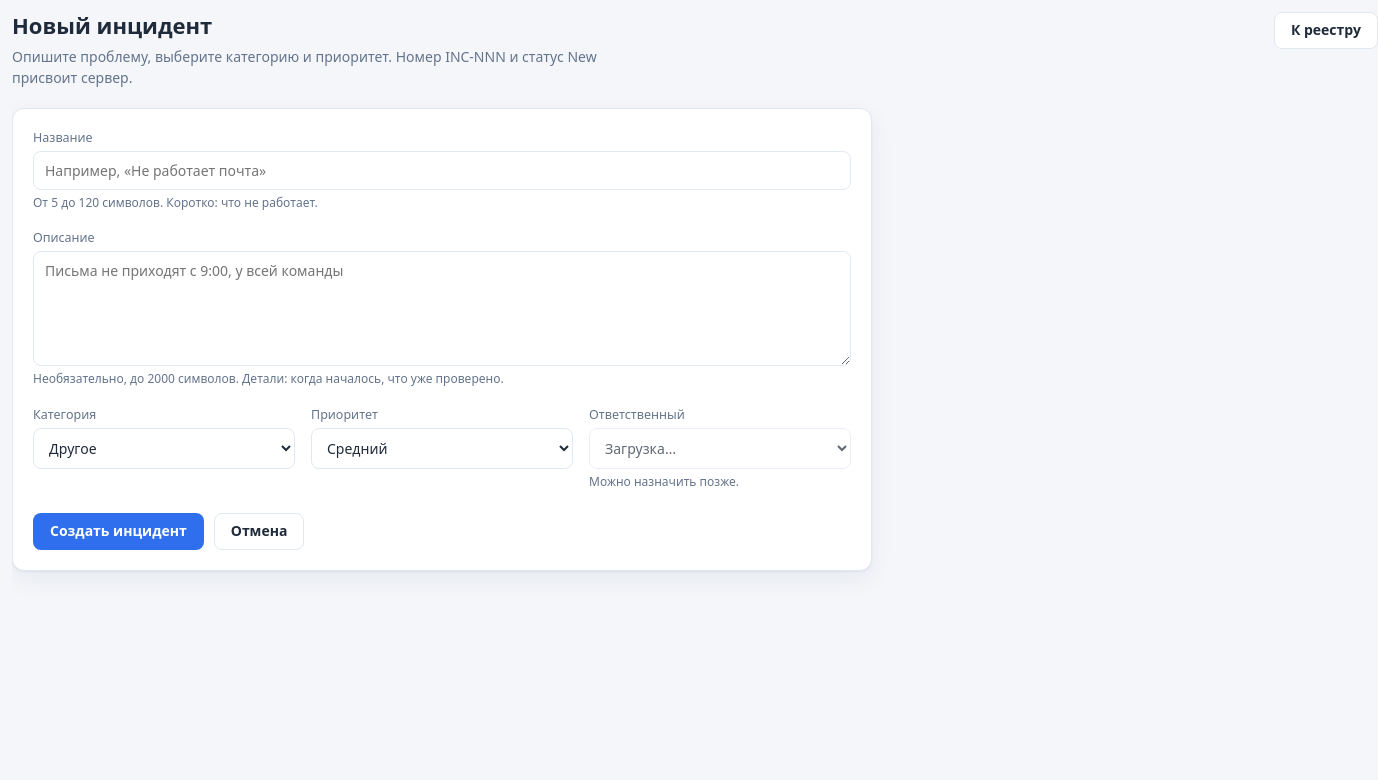
Scenario: IncidentCreatePage — форма создания › не отправляет пустое название
Click the button "Создать инцидент" at (118, 531), box left=33, top=513, right=204, bottom=550
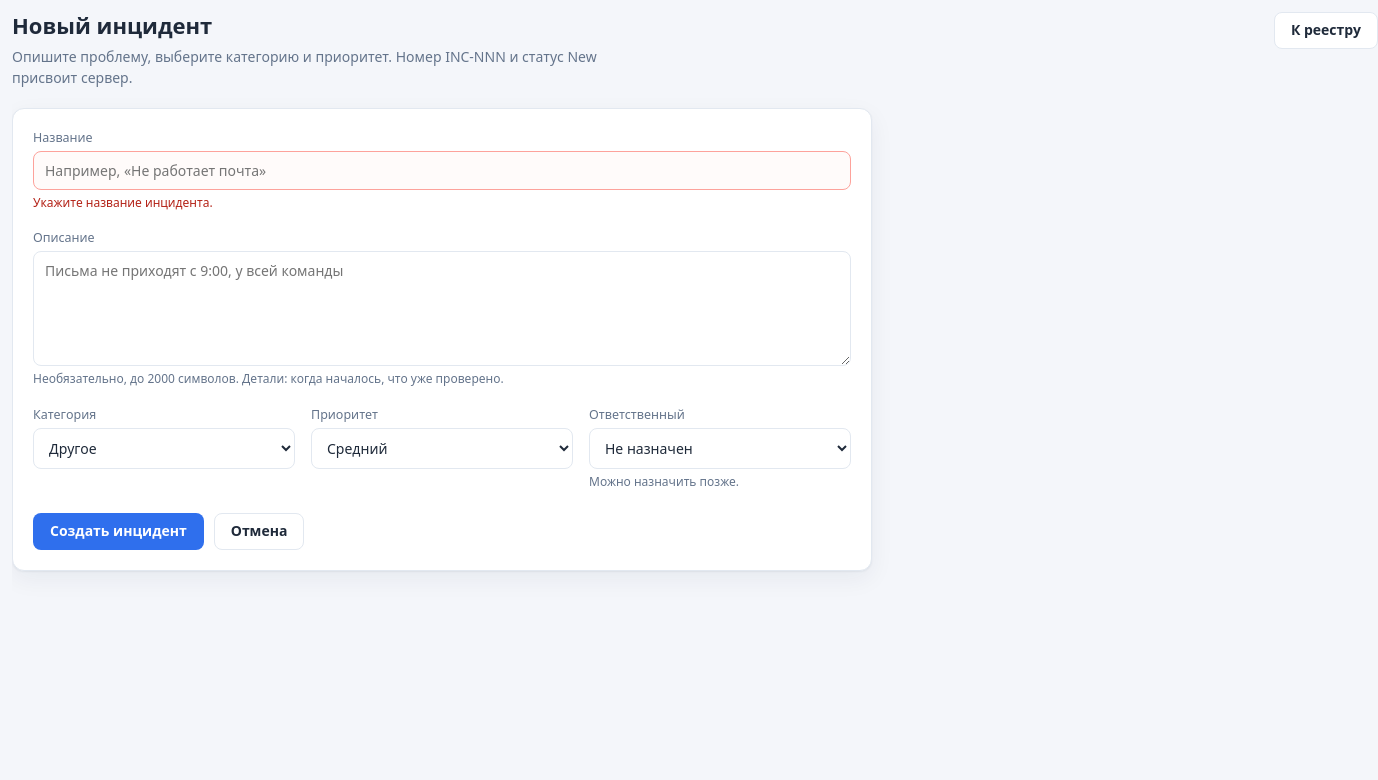
Now the text "Укажите название инцидента." is shown, box left=33, top=194, right=213, bottom=210
